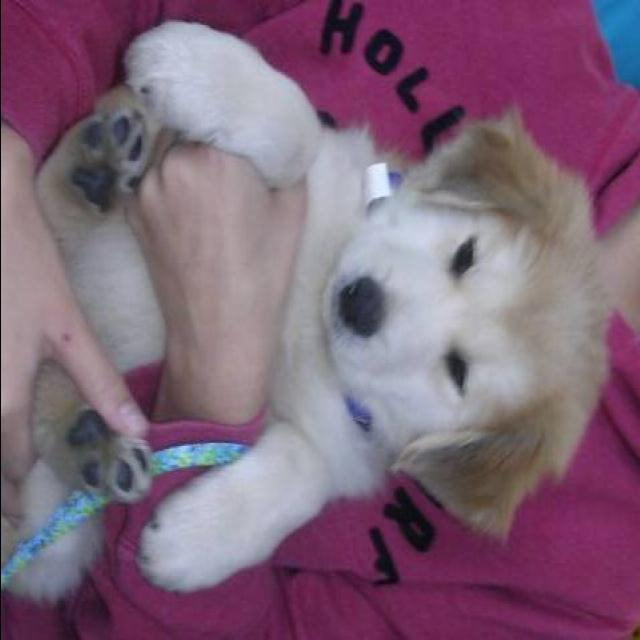dog: (0, 18, 614, 594)
